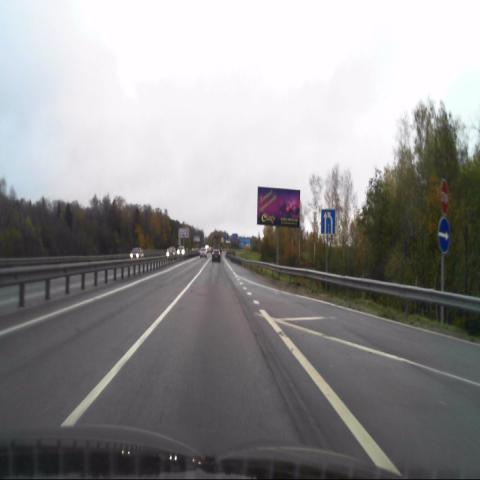4_1_2_1: (438, 218, 450, 253)
